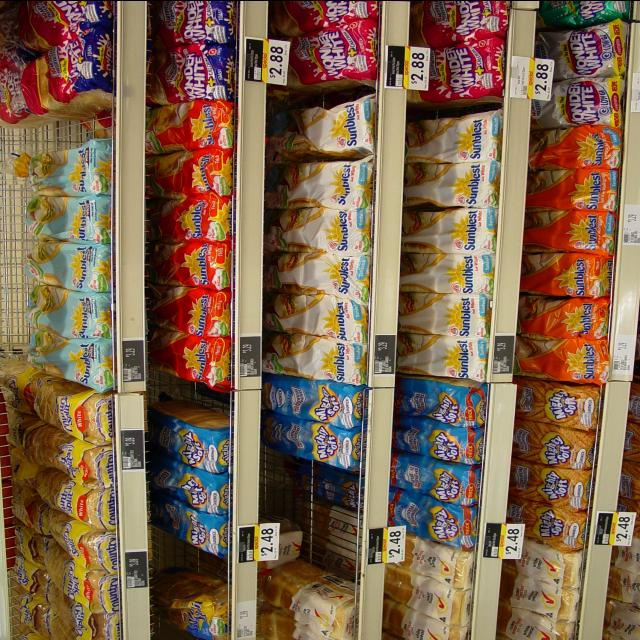empty_space: (281, 470, 347, 554)
